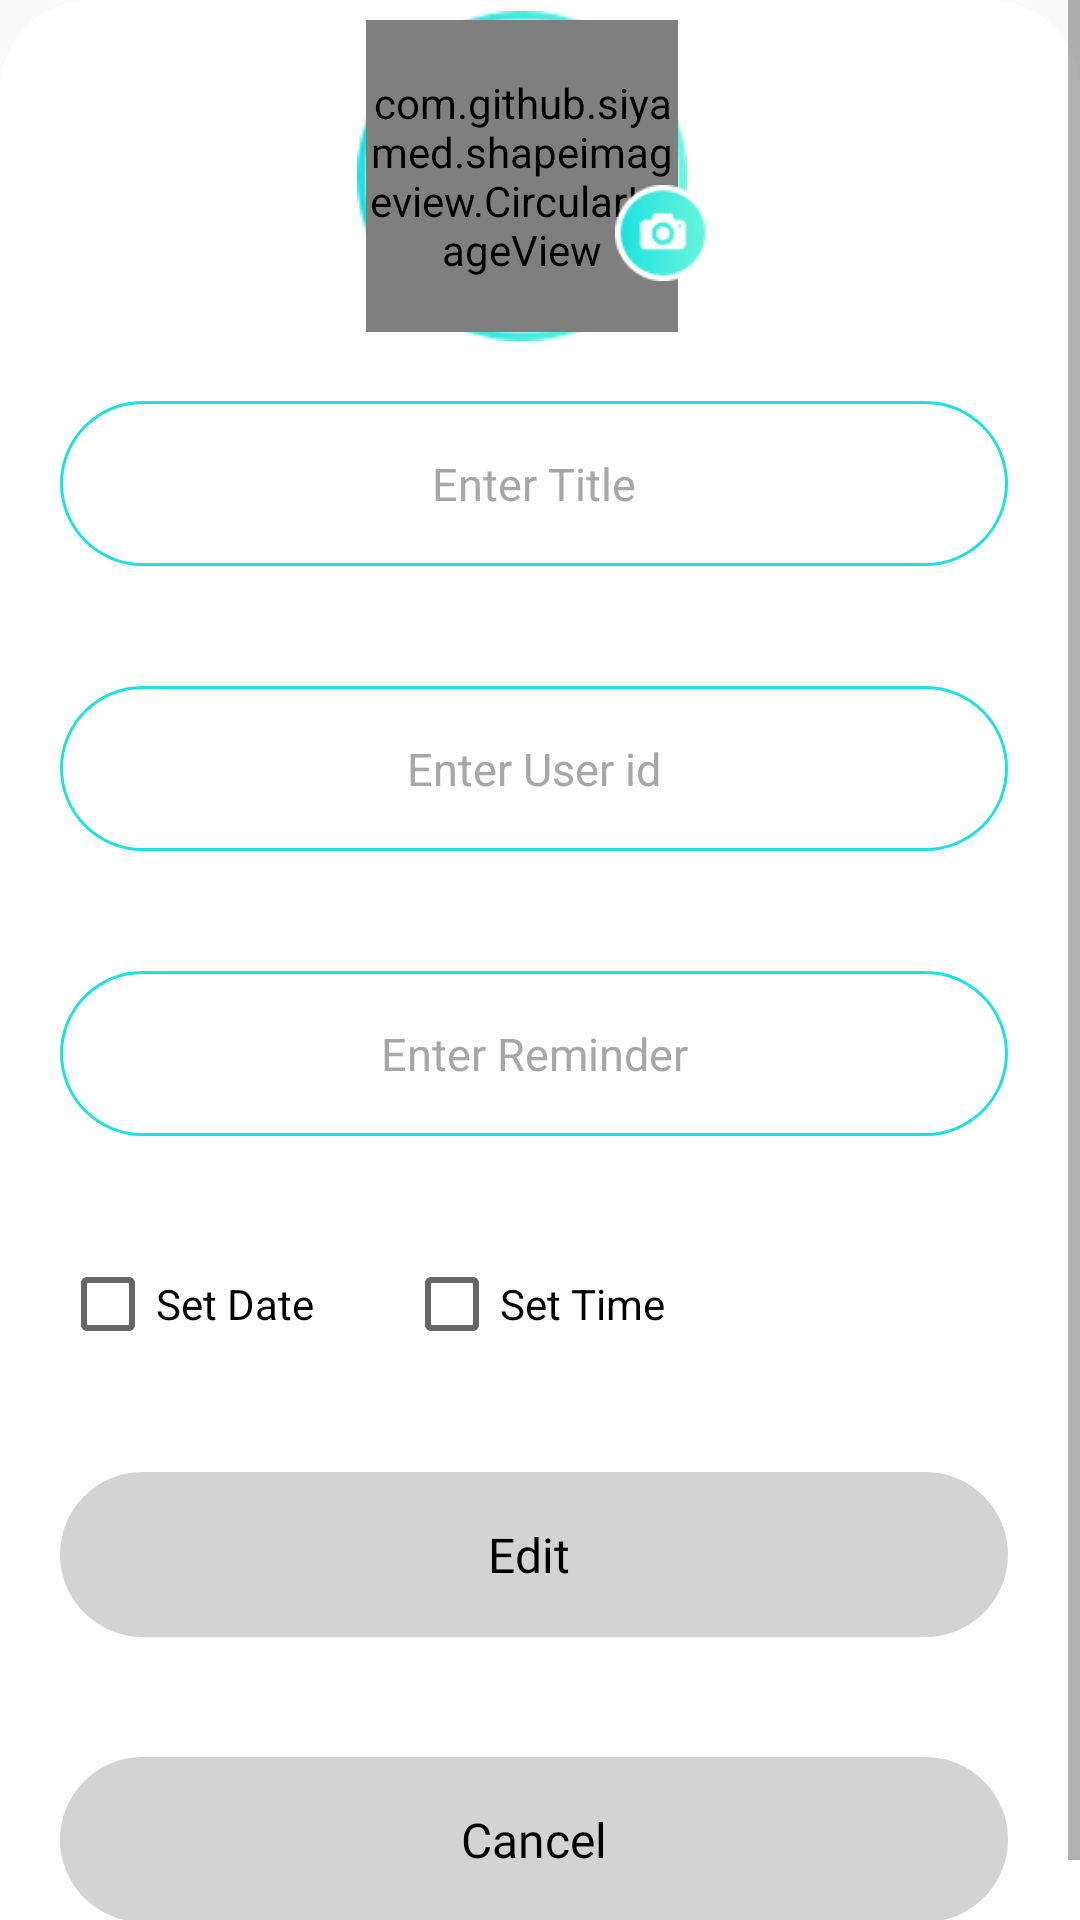

Point at icon controls on the screen. Image size 1080 x 1920, points as [x,y].
camera: [663,233]
